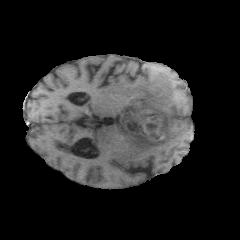glioma: (116, 70, 182, 153)
